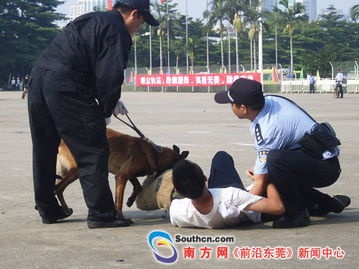falling: (163, 146, 279, 231)
